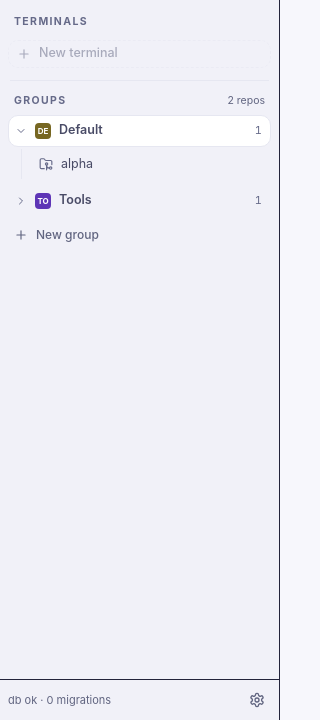
Test case: Sidebar groups accordion › clicking another group activates and expands it, collapsing the first
Expected: the element titled "/repos/alpha" is shown, [39,156,262,171]
Click the button "Tools". click: (153, 200)
box: [59,191,247,210]
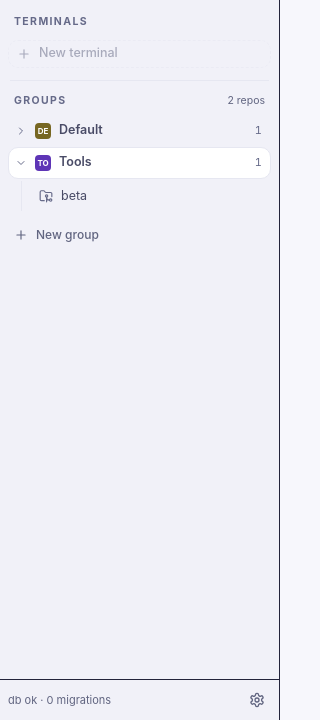
Now the element titled "/repos/beta" is shown, box [39,188,262,203]
Now the element titled "/repos/alpha" is gone
